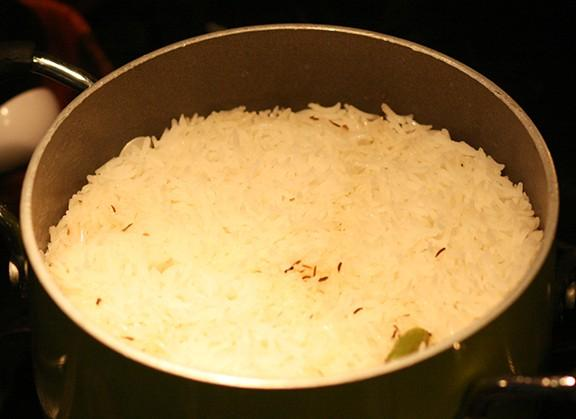WhiteRice: (40, 98, 543, 383)
